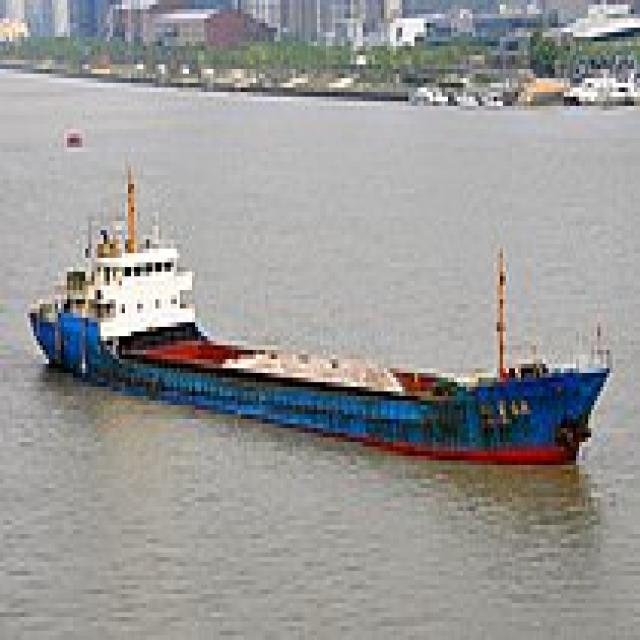Cargo: (21, 152, 606, 465)
